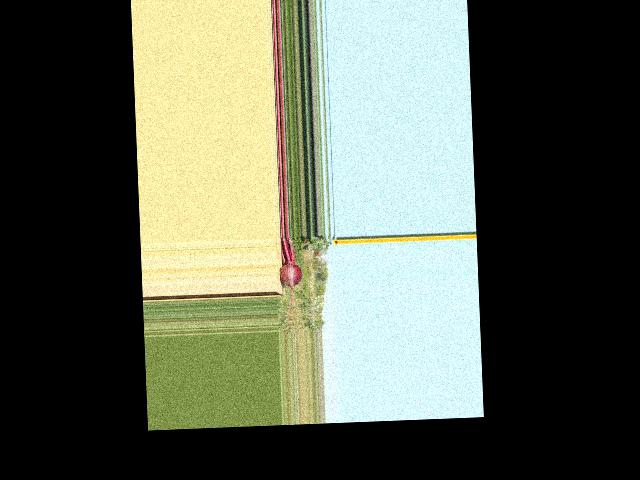beet: (277, 235, 304, 328)
